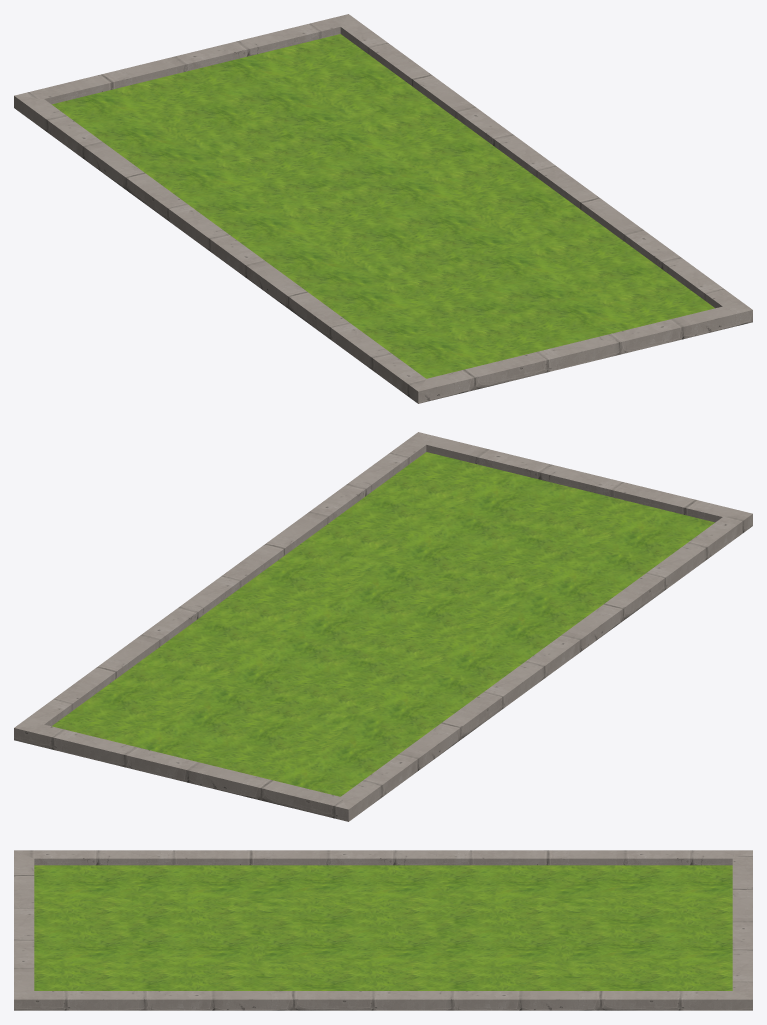
Rendered from GrassTile_K.fbx.
3 views of the same model, one above another, from view 1: azimuth 30°, elevation 25°; view 2: azimuth 150°, elevation 25°; view 3: azimuth 270°, elevation 25° (orthographic). The views are drawn at different scales.
Parts seen in each view (by area): view 1: GrassTile_K; view 2: GrassTile_K; view 3: GrassTile_K.
Boxes of the visible parts, x1,y1,x2,y2 form: GrassTile_K: [14, 14, 752, 403]; GrassTile_K: [14, 432, 752, 821]; GrassTile_K: [14, 850, 752, 1010].
Size of the model in its own units: 861 by 30.34 by 1801.
Materials: 2 (2 with a texture image).
